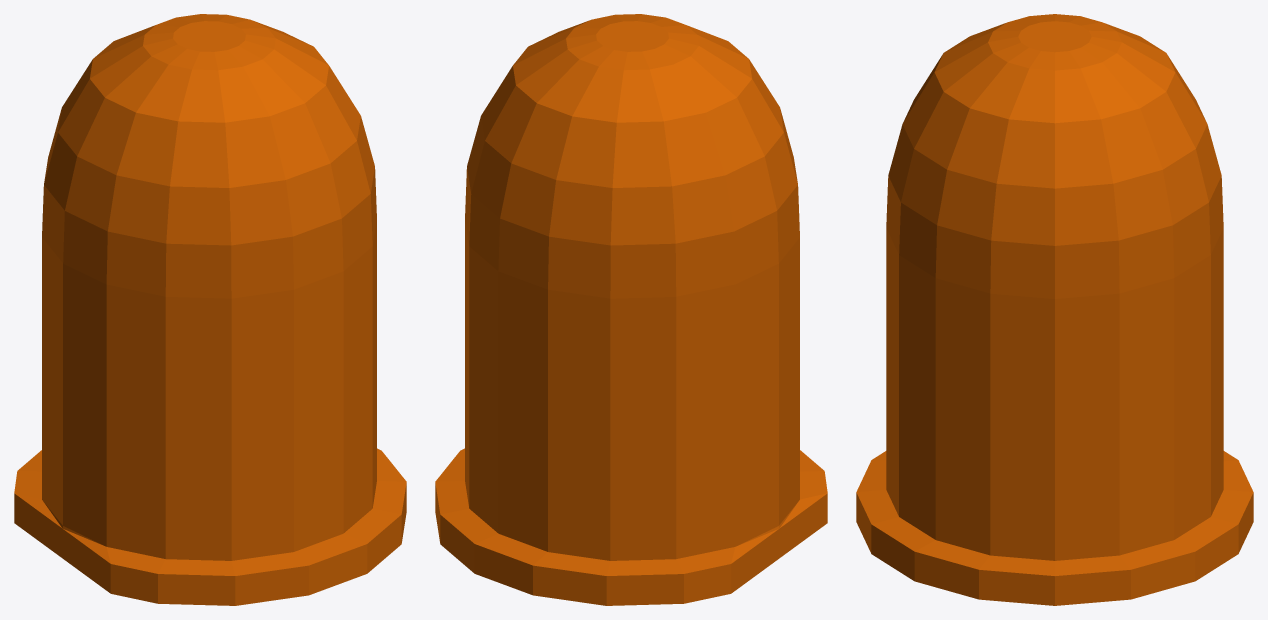
The model's file is STROBE.FBX.
3 renders of one model, left to right at view 1: azimuth 30°, elevation 25°; view 2: azimuth 150°, elevation 25°; view 3: azimuth 270°, elevation 25°, orthographic.
Parts seen in each view (by area): view 1: Plastic Bi; view 2: Plastic Bi; view 3: Plastic Bi.
Boxes of the visible parts, x1=… form: Plastic Bi: x1=14, y1=14, x2=406, y2=605; Plastic Bi: x1=435, y1=14, x2=827, y2=605; Plastic Bi: x1=856, y1=14, x2=1253, y2=605.
Bounding box in the file's own units: 49.46 × 71.96 × 53.39.
